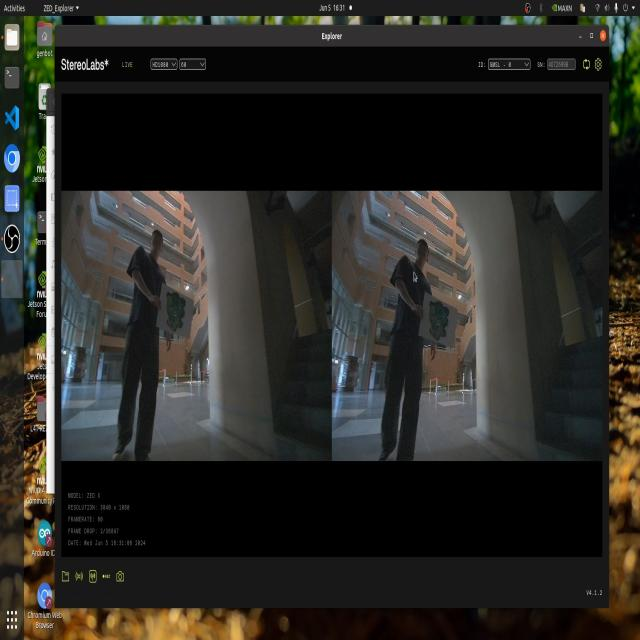green: (419, 291, 453, 345), (164, 291, 188, 335)
